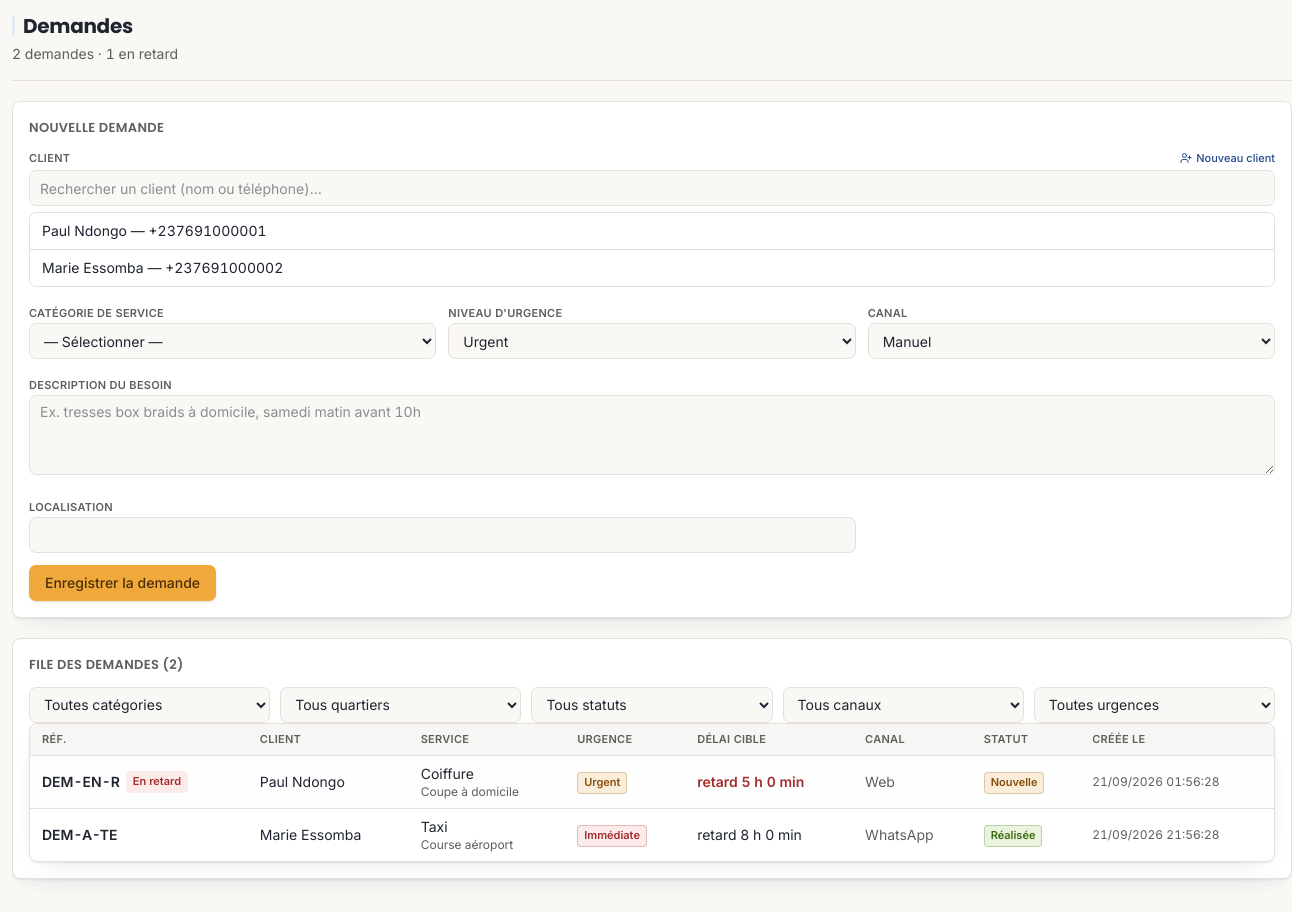
Test: Demandes — liste, saisie rapide, SLA/retard, filtres › filtre par catégorie
The width and height of the screenshot is (1292, 912).
Expected: the text "Coupe à domicile" is shown, [421,784,519,799]
Expected: the text "Course aéroport" is shown, [421,837,513,852]
Select "Taxi" in the 4th dropdown: (150, 704) [29,686,270,722]
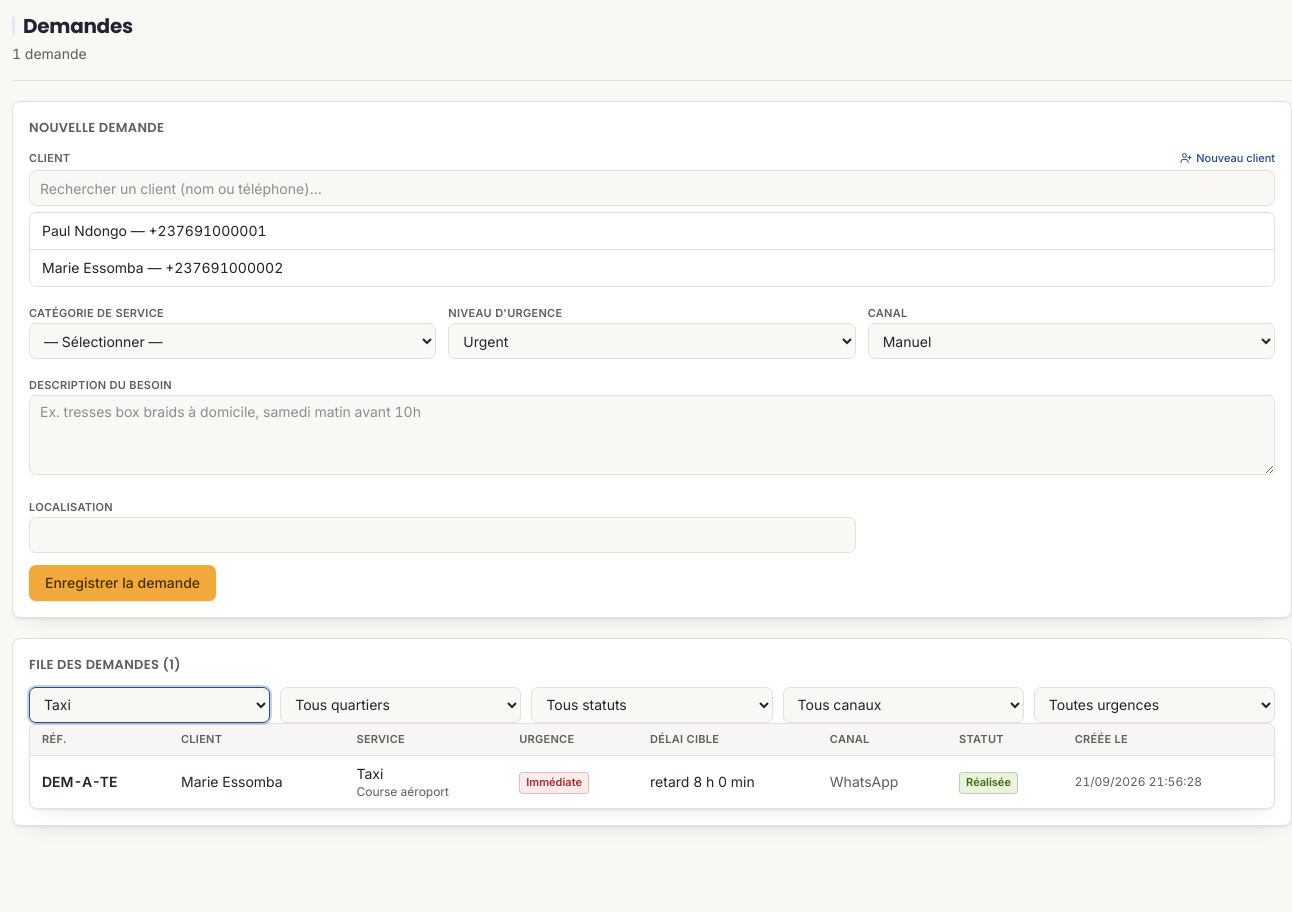
Expected: the text "Course aéroport" is shown, [356,784,449,799]
Expected: the text "Coupe à domicile" is gone
